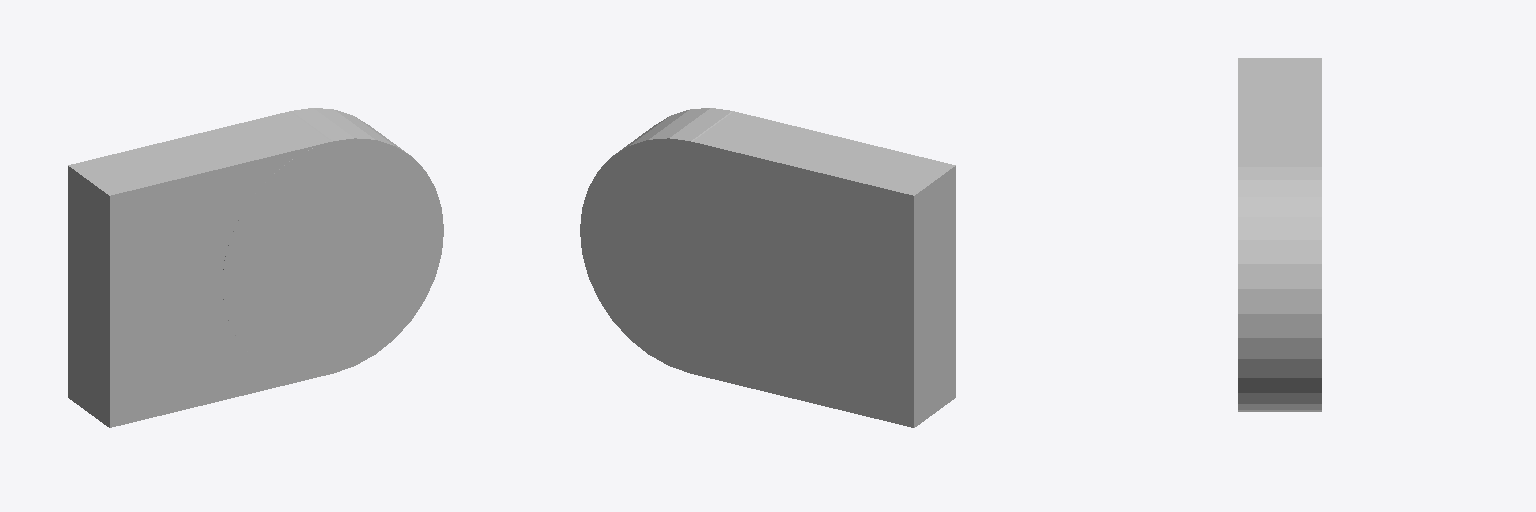
The model's file is box_cyl.obj.
The picture shows the model from 3 angles: view 1: azimuth 30°, elevation 25°; view 2: azimuth 150°, elevation 25°; view 3: azimuth 270°, elevation 25°; orthographic projection.
Parts seen in each view (by area): view 1: Cube; view 2: Cube; view 3: Cube.
Boxes of the visible parts, x1,y1,x2,y2 form: Cube: [68, 108, 443, 427]; Cube: [580, 108, 955, 427]; Cube: [1238, 58, 1321, 411].
Bounding box in the file's own units: 3.01 × 2 × 0.6512.